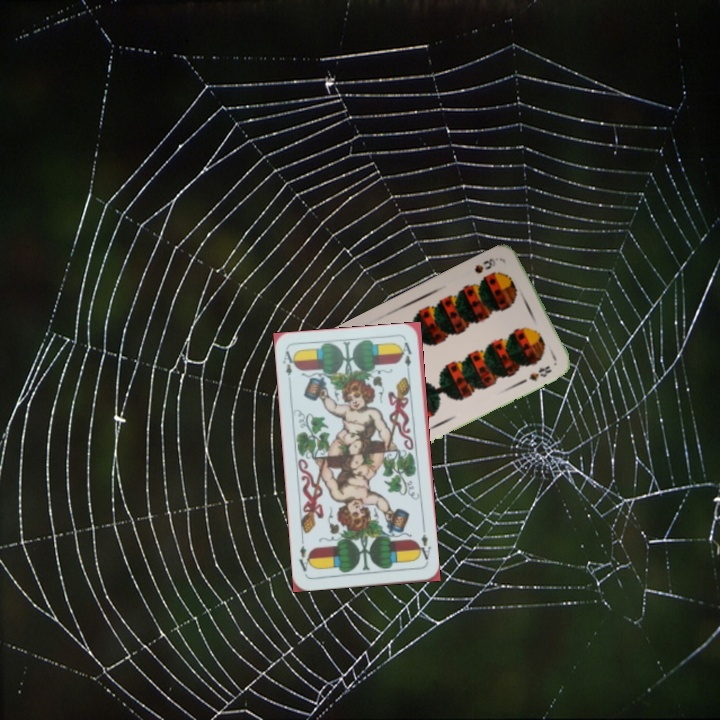EA: (413, 530, 434, 565), (279, 347, 298, 378)
S8: (470, 254, 496, 276)
